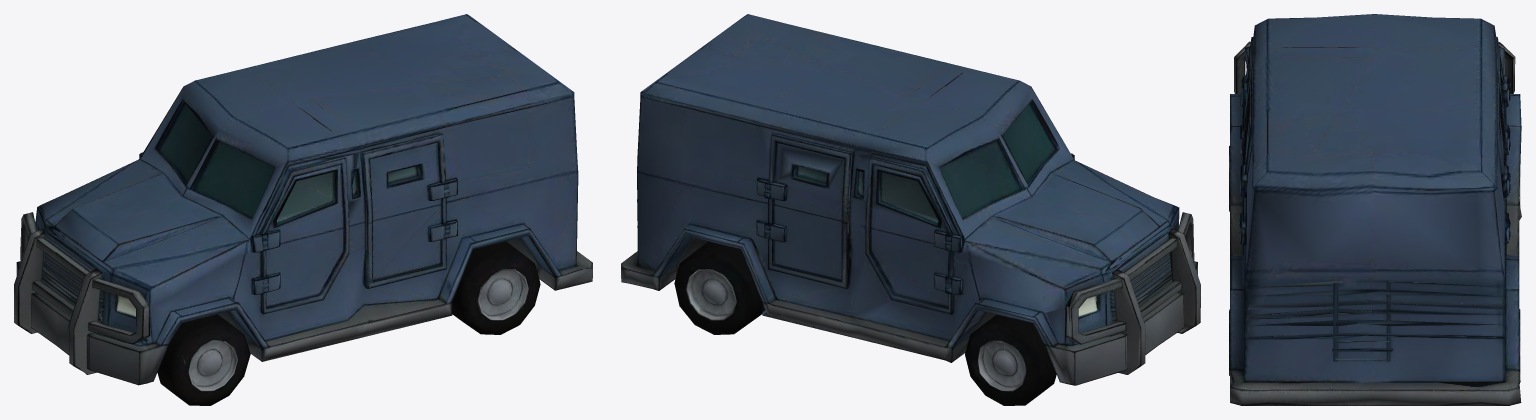
File: armored-van.glb
3 views of the same model, side by side, from view 1: azimuth 30°, elevation 25°; view 2: azimuth 150°, elevation 25°; view 3: azimuth 270°, elevation 25° (orthographic). The views are drawn at different scales.
Parts seen in each view (by area): view 1: geometry_0; view 2: geometry_0; view 3: geometry_0.
Boxes of the visible parts, x1,y1,x2,y2 form: geometry_0: [14, 14, 592, 405]; geometry_0: [621, 14, 1200, 405]; geometry_0: [1229, 14, 1521, 405].
Bounding box in the file's own units: 0.957 × 0.4199 × 0.4277.
Materials: 1 (1 with a texture image).
